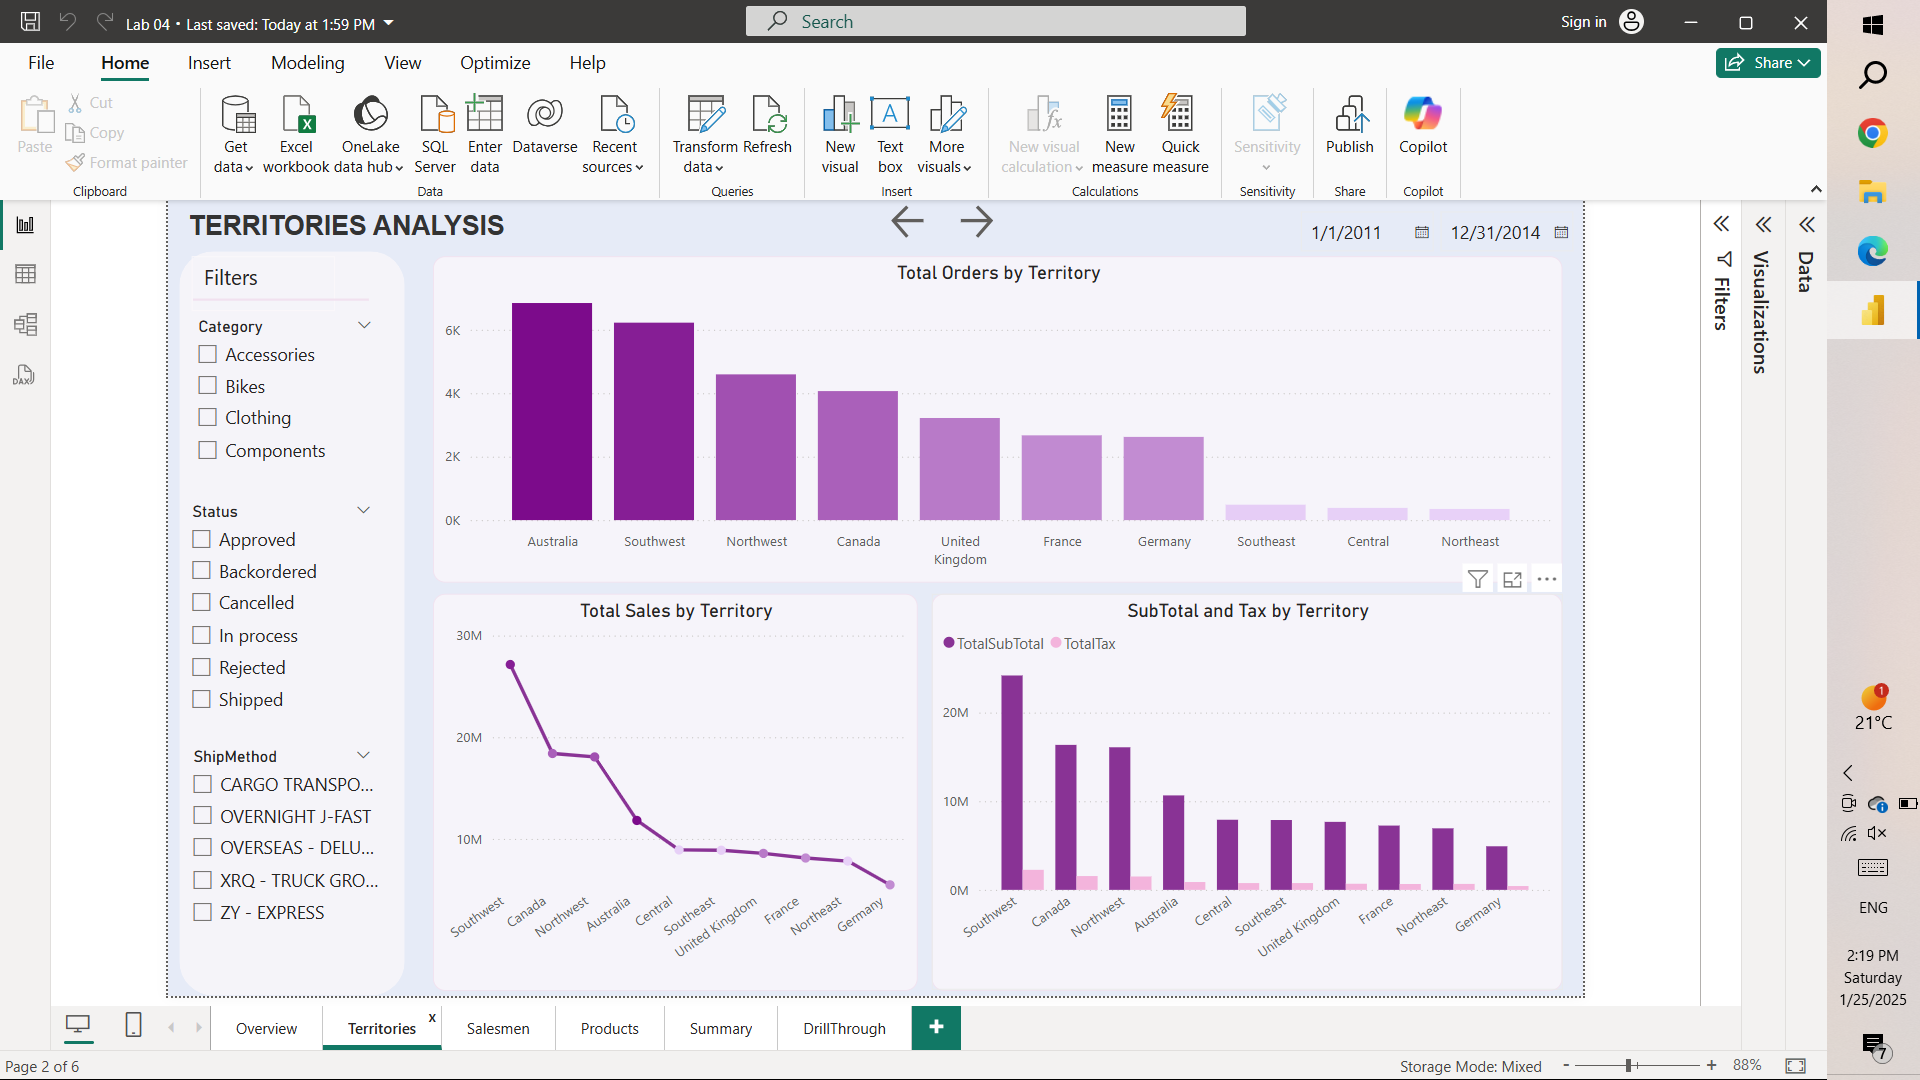

The dashboard page shown, as its layout file describes it:
{"tool":"powerbi","page":{"name":"Territories","canvas":[1280,720],"ordinal":1},"visuals":[{"type":"shape","box":[10.2,46.6,204.1,673.4],"z":0},{"type":"textbox","box":[21.2,51.1,129.6,49.8],"z":1000},{"type":"shape","box":[22.4,37.4,159.5,105.9],"z":2000},{"type":"slicer","fields":{"Values":["DimDate.Date"]},"box":[1011.9,0,267.9,89.7],"z":3000},{"type":"columnChart","title":"Total Orders by Territory","fields":{"Category":["vw_DimTerritories.Territory"],"Y":["DAX_Measures.No.Orders"]},"box":[239.9,50.7,1022,295],"z":4000},{"type":"lineChart","title":"Total Sales by Territory","fields":{"Category":["vw_DimTerritories.Territory"],"Y":["DAX_Measures.TotalDue"]},"box":[239.3,356.4,438.6,358.9],"z":5000},{"type":"clusteredColumnChart","title":"SubTotal and Tax by Territory","fields":{"Y":["DAX_Measures.TotalSubTotal","DAX_Measures.TotalTax"],"Category":["vw_DimTerritories.Territory"]},"box":[691.3,356.1,570.6,359],"z":6000},{"type":"textbox","box":[13.1,5.8,569.9,70],"z":7000},{"type":"slicer","fields":{"Values":["vw_DimProducts.Category"]},"box":[15,100.9,181.9,167],"z":8000},{"type":"slicer","fields":{"Values":["vw_DimStatuses.Status"]},"box":[8.7,267.9,186.9,233],"z":10000},{"type":"slicer","fields":{"Values":["vw_DimShipMethods.ShipMethod"]},"box":[10,489.7,185.7,203.1],"z":11000},{"type":"actionButton","box":[650.1,0,100.6,39.4],"z":12000},{"type":"actionButton","box":[711.3,0,100.6,39.4],"z":13000}]}

Visuals, with their boxes on the page's 1280x720 design canvas (x1, y1, x2, y2). These are canvas units, not pixel positions in the 1920x1080 screenshot, which may show the page scaled, cropped or inside an application window:
shape: 10:47:214:720
textbox: 21:51:151:101
shape: 22:37:182:143
slicer - DimDate.Date: 1012:0:1280:90
"Total Orders by Territory" columnChart: 240:51:1262:346
"Total Sales by Territory" lineChart: 239:356:678:715
"SubTotal and Tax by Territory" clusteredColumnChart: 691:356:1262:715
textbox: 13:6:583:76
slicer - vw_DimProducts.Category: 15:101:197:268
slicer - vw_DimStatuses.Status: 9:268:196:501
slicer - vw_DimShipMethods.ShipMethod: 10:490:196:693
actionButton: 650:0:751:39
actionButton: 711:0:812:39
